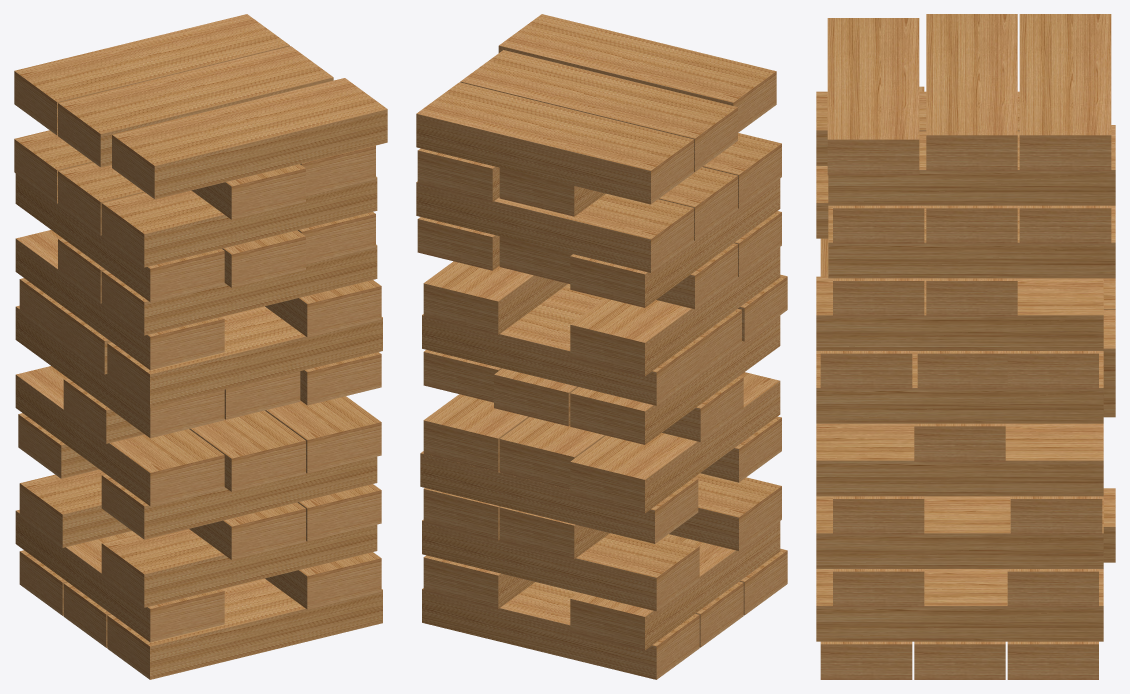
Rendered from blocks.fbx.
3 renders of one model, left to right at view 1: azimuth 30°, elevation 25°; view 2: azimuth 150°, elevation 25°; view 3: azimuth 270°, elevation 25°, orthographic. The views are drawn at different scales.
Visible parts, largest first — view 1: pCube3.036, pCube3.022, pCube3.023, pCube3.030, pCube3.034, pCube3.014, pCube3.025, pCube3.005, pCube3.032, pCube3.027, pCube3.008, pCube3.002 (+24 smaller); view 2: pCube3.014, pCube3.010, pCube3.003, pCube3.036, pCube3.022, pCube3.007, pCube3.005, pCube3.001, pCube3.008, pCube3.004, pCube3.002, pCube3.006 (+24 smaller); view 3: pCube3.028, pCube3.036, pCube3.014, pCube3.022, pCube3.031, pCube3.024, pCube3.026, pCube3.033, pCube3.029, pCube3.035, pCube3.030, pCube3.004 (+18 smaller).
Boxes of the visible parts, left/top/right/bottom form: pCube3.036: left=112, top=78, right=387, bottom=199; pCube3.022: left=58, top=46, right=333, bottom=167; pCube3.023: left=107, top=578, right=382, bottom=679; pCube3.030: left=107, top=306, right=382, bottom=407; pCube3.034: left=101, top=176, right=377, bottom=267; pCube3.014: left=14, top=14, right=289, bottom=135; pCube3.025: left=101, top=524, right=377, bottom=607; pCube3.005: left=15, top=366, right=224, bottom=506; pCube3.032: left=101, top=244, right=377, bottom=335; pCube3.027: left=101, top=456, right=377, bottom=539; pCube3.008: left=15, top=230, right=224, bottom=370; pCube3.002: left=15, top=510, right=224, bottom=642; pCube3.014: left=416, top=82, right=693, bottom=204; pCube3.010: left=416, top=181, right=693, bottom=272; pCube3.003: left=422, top=519, right=699, bottom=611; pCube3.036: left=498, top=14, right=776, bottom=132; pCube3.022: left=460, top=50, right=737, bottom=172; pCube3.007: left=422, top=302, right=699, bottom=405; pCube3.005: left=570, top=372, right=780, bottom=513; pCube3.001: left=422, top=582, right=699, bottom=679; pCube3.008: left=570, top=247, right=780, bottom=376; pCube3.004: left=420, top=451, right=698, bottom=543; pCube3.002: left=570, top=521, right=780, bottom=650; pCube3.006: left=570, top=315, right=780, bottom=444; pCube3.028: left=816, top=423, right=1103, bottom=496; pCube3.036: left=827, top=18, right=919, bottom=175; pCube3.014: left=1019, top=14, right=1111, bottom=170; pCube3.022: left=926, top=14, right=1017, bottom=170; pCube3.031: left=816, top=276, right=1103, bottom=350; pCube3.024: left=816, top=569, right=1103, bottom=641; pCube3.026: left=816, top=496, right=1103, bottom=568; pCube3.033: left=828, top=205, right=1115, bottom=278; pCube3.029: left=816, top=351, right=1103, bottom=423; pCube3.035: left=828, top=131, right=1115, bottom=205; pCube3.030: left=820, top=238, right=912, bottom=389; pCube3.004: left=1010, top=496, right=1102, bottom=534.
Bounding box in the file's own units: 5.23 × 10.56 × 5.27.
Materials: 1 (1 with a texture image).
